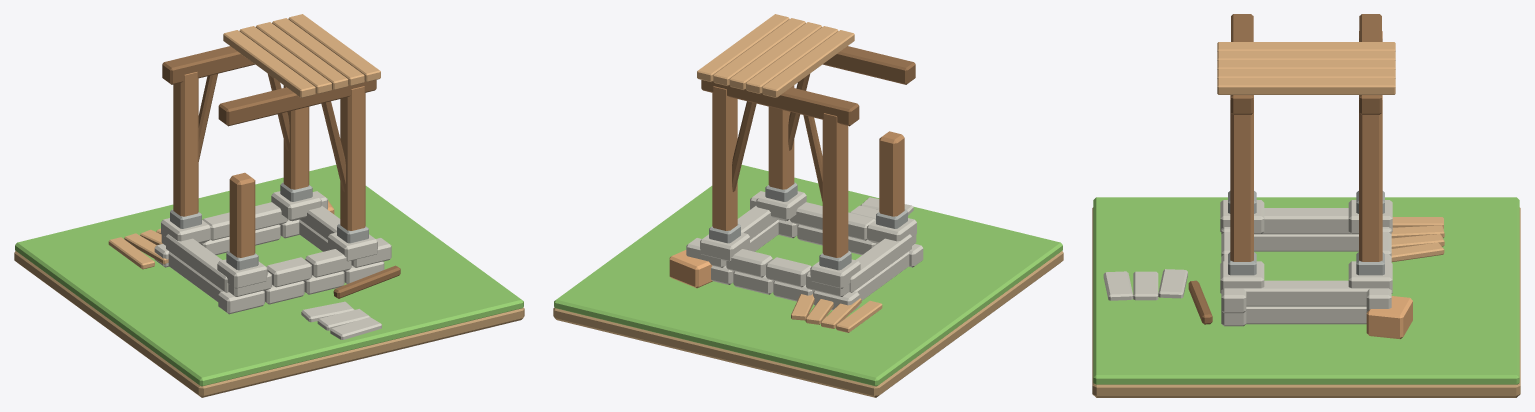
File: tower_l02_damaged.glb
3 renders of one model, left to right at view 1: azimuth 30°, elevation 25°; view 2: azimuth 150°, elevation 25°; view 3: azimuth 270°, elevation 25°, orthographic. The views are drawn at different scales.
Parts seen in each view (by area): view 1: tower_l02_grass_tile, tower_l02_earth_tile, post_-0.61_0.54, post_0.61_-0.54, deck_bearer_-0.54, post_-0.61_-0.54, post_0.61_0.54, deck_bearer_0.54, deck_board_4, stone_return_1_-0.72, deck_board_5, deck_board_8 (+26 smaller); view 2: tower_l02_grass_tile, tower_l02_earth_tile, post_-0.61_0.54, post_0.61_0.54, deck_bearer_0.54, post_-0.61_-0.54, deck_bearer_-0.54, post_0.61_-0.54, deck_board_4, stone_return_1_-0.72, deck_board_5, deck_board_8 (+23 smaller); view 3: tower_l02_grass_tile, tower_l02_earth_tile, post_0.61_0.54, post_0.61_-0.54, deck_board_8, stone_return_1_0.72, stone_return_1_-0.72, stone_return_0_0.72, stone_return_0_-0.72, deck_board_6, deck_board_7, deck_board_4 (+20 smaller).
Part boxes in pixels (bbox=[...]): tower_l02_grass_tile: bbox=[15, 165, 523, 386]; tower_l02_earth_tile: bbox=[14, 251, 524, 397]; post_-0.61_0.54: bbox=[173, 72, 198, 216]; post_0.61_-0.54: bbox=[340, 86, 365, 230]; deck_bearer_-0.54: bbox=[218, 80, 376, 126]; post_-0.61_-0.54: bbox=[229, 172, 255, 257]; post_0.61_0.54: bbox=[283, 85, 309, 189]; deck_bearer_0.54: bbox=[162, 46, 254, 84]; deck_board_4: bbox=[223, 30, 315, 97]; stone_return_1_-0.72: bbox=[166, 234, 228, 292]; deck_board_5: bbox=[239, 26, 331, 93]; deck_board_8: bbox=[288, 14, 380, 81]; tower_l02_grass_tile: bbox=[554, 165, 1062, 386]; tower_l02_earth_tile: bbox=[553, 251, 1063, 397]; post_-0.61_0.54: bbox=[822, 113, 848, 257]; post_0.61_0.54: bbox=[712, 86, 737, 230]; deck_bearer_0.54: bbox=[701, 80, 859, 126]; post_-0.61_-0.54: bbox=[879, 131, 904, 216]; deck_bearer_-0.54: bbox=[823, 46, 915, 84]; post_0.61_-0.54: bbox=[768, 85, 794, 189]; deck_board_4: bbox=[762, 30, 854, 97]; stone_return_1_-0.72: bbox=[849, 234, 911, 292]; deck_board_5: bbox=[746, 26, 838, 93]; deck_board_8: bbox=[697, 14, 789, 81]; tower_l02_grass_tile: bbox=[1093, 197, 1519, 384]; tower_l02_earth_tile: bbox=[1092, 207, 1520, 397]; post_0.61_0.54: bbox=[1359, 95, 1382, 261]; post_0.61_-0.54: bbox=[1230, 95, 1253, 261]; deck_board_8: bbox=[1217, 78, 1395, 94]; stone_return_1_0.72: bbox=[1240, 280, 1372, 306]; stone_return_1_-0.72: bbox=[1261, 208, 1351, 234]; stone_return_0_0.72: bbox=[1246, 306, 1366, 324]; stone_return_0_-0.72: bbox=[1254, 234, 1358, 251]; deck_board_6: bbox=[1217, 60, 1395, 69]; deck_board_7: bbox=[1217, 69, 1395, 78]; deck_board_4: bbox=[1217, 42, 1395, 51].
Size of the model in its own units: 3.6 by 2.45 by 3.6.
